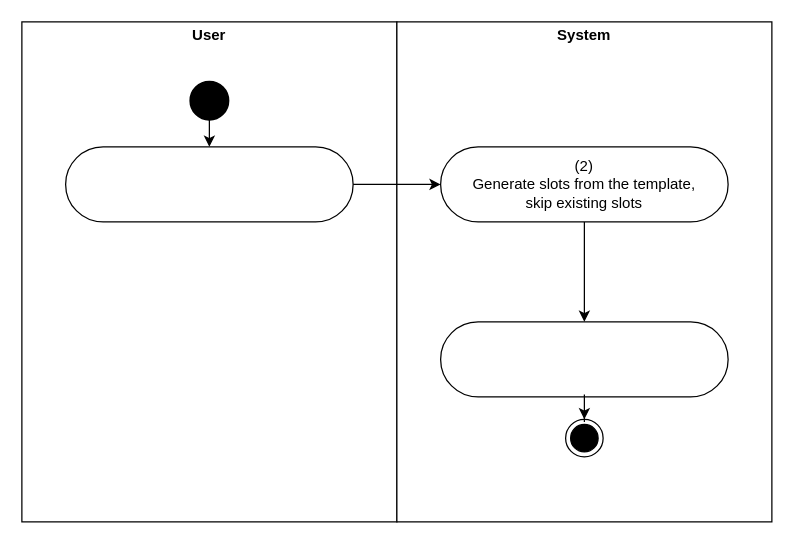
The diagram is 794 pixels wide and 544 high, and some of its shapes have lost their labels. Here are the shapes that lost their labels. From the top down, the centre of each, then its label:
[208,184]: (1) Select a date range, click "Generate slots"
[583,359]: (3) Display the number of slots created
